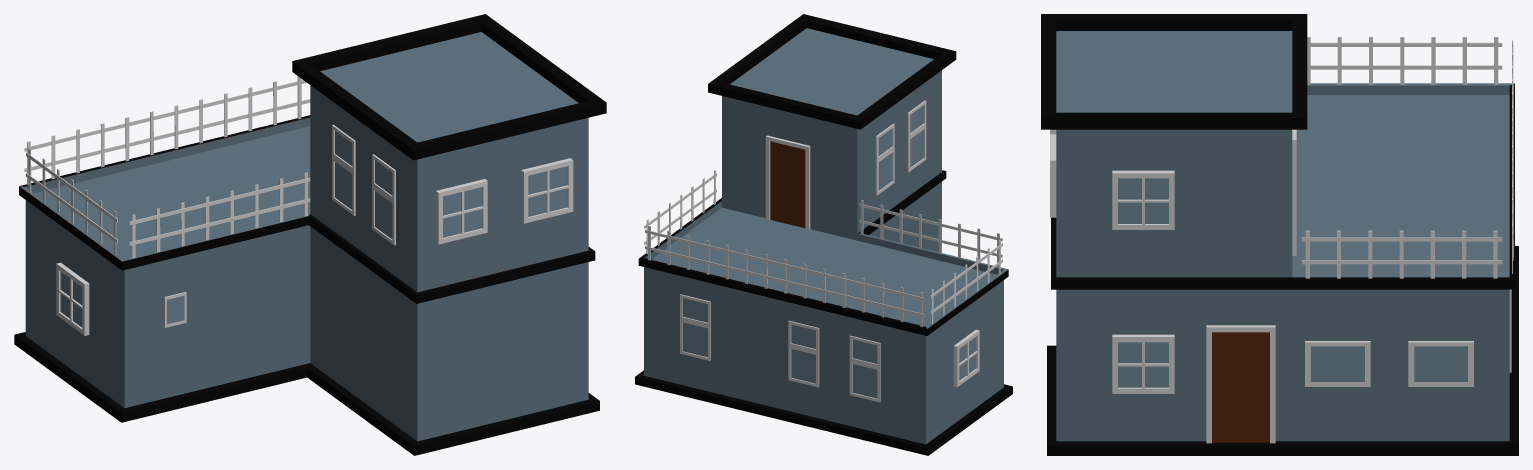
The model's file is first floor fence blue.fbx.
3 views of the same model, side by side, from view 1: azimuth 30°, elevation 25°; view 2: azimuth 150°, elevation 25°; view 3: azimuth 270°, elevation 25° (orthographic). The views are drawn at different scales.
Parts seen in each view (by area): view 1: first floor fence light blue.001; view 2: first floor fence light blue.001; view 3: first floor fence light blue.001.
Part boxes in pixels (box(x1,y1,x2,y2)): first floor fence light blue.001: box(14, 14, 606, 455); first floor fence light blue.001: box(635, 14, 1012, 455); first floor fence light blue.001: box(1041, 14, 1518, 455).
Size of the model in its own units: 8.08 by 6.36 by 8.1.
